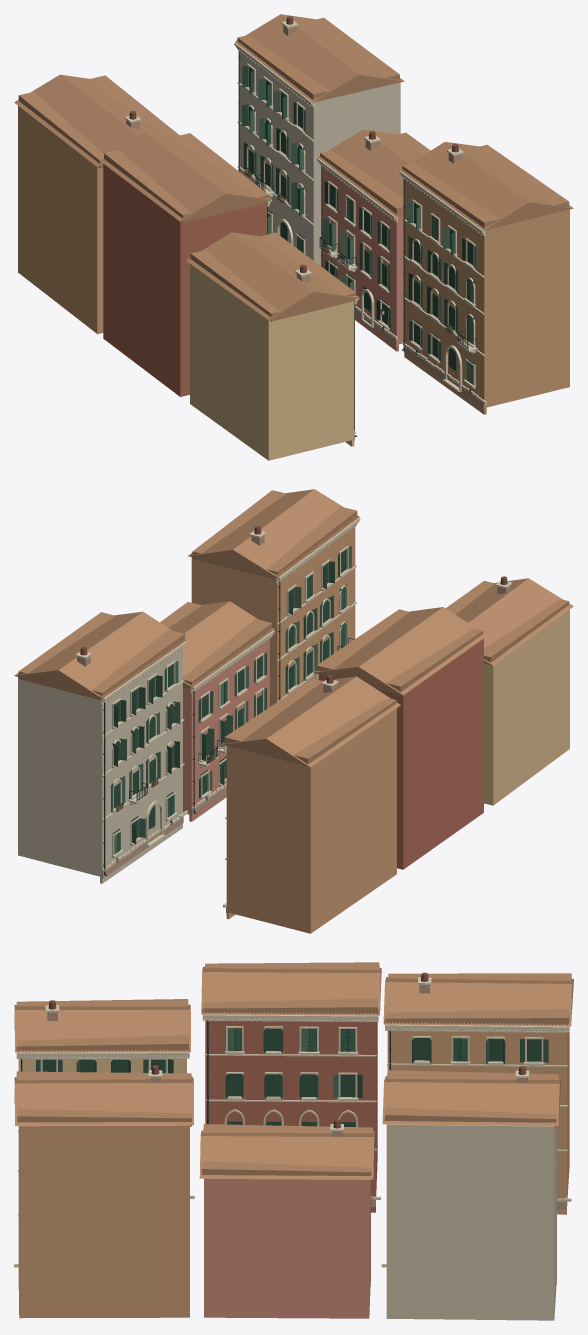
Rendered from canal-00.glb.
3 renders of one model, top to bottom at view 1: azimuth 30°, elevation 25°; view 2: azimuth 150°, elevation 25°; view 3: azimuth 270°, elevation 25°, orthographic. The views are drawn at different scales.
Visible parts, largest first — view 1: Main elevations / kit:roof, Main elevations / kit:walls:0, Distant elevations / kit:walls:0, Main elevations / kit:walls:2, Distant elevations / kit:roof, Main elevations / kit:walls:4, Main elevations / kit:stone, Distant elevations / kit:walls:3, Main elevations / kit:walls:3, Distant elevations / kit:walls:2, Main elevations / kit:green, Distant elevations / kit:greenDark (+8 smaller); view 2: Main elevations / kit:roof, Main elevations / kit:walls:0, Distant elevations / kit:walls:0, Main elevations / kit:walls:3, Main elevations / kit:walls:4, Distant elevations / kit:roof, Main elevations / kit:walls:2, Main elevations / kit:stone, Distant elevations / kit:walls:3, Main elevations / kit:green, Distant elevations / kit:greenDark, Distant elevations / kit:walls:1 (+6 smaller); view 3: Main elevations / kit:roof, Main elevations / kit:walls:0, Main elevations / kit:walls:3, Main elevations / kit:walls:1, Distant elevations / kit:roof, Main elevations / kit:stone, Main elevations / kit:walls:4, Distant elevations / kit:walls:4, Distant elevations / kit:greenDark, Main elevations / kit:greenDark, Distant elevations / kit:walls:0, Main elevations / kit:green (+3 smaller).
Part boxes in pixels (bbox=[...]): Main elevations / kit:roof: bbox=[14, 14, 573, 320]; Main elevations / kit:walls:0: bbox=[18, 106, 569, 414]; Distant elevations / kit:walls:0: bbox=[100, 168, 567, 407]; Main elevations / kit:walls:2: bbox=[190, 264, 354, 460]; Distant elevations / kit:roof: bbox=[18, 17, 569, 321]; Main elevations / kit:walls:4: bbox=[103, 164, 266, 396]; Main elevations / kit:stone: bbox=[124, 21, 486, 433]; Distant elevations / kit:walls:3: bbox=[239, 51, 316, 262]; Main elevations / kit:walls:3: bbox=[243, 82, 400, 265]; Distant elevations / kit:walls:2: bbox=[271, 302, 351, 459]; Main elevations / kit:green: bbox=[243, 78, 476, 384]; Distant elevations / kit:greenDark: bbox=[248, 67, 474, 371]; Main elevations / kit:roof: bbox=[14, 489, 573, 767]; Main elevations / kit:walls:0: bbox=[191, 526, 396, 933]; Distant elevations / kit:walls:0: bbox=[211, 542, 345, 932]; Main elevations / kit:walls:3: bbox=[18, 675, 182, 883]; Main elevations / kit:walls:4: bbox=[320, 638, 483, 869]; Distant elevations / kit:roof: bbox=[18, 490, 569, 764]; Main elevations / kit:walls:2: bbox=[484, 609, 569, 805]; Main elevations / kit:stone: bbox=[75, 518, 512, 907]; Distant elevations / kit:walls:3: bbox=[99, 649, 182, 876]; Main elevations / kit:green: bbox=[110, 546, 351, 854]; Distant elevations / kit:greenDark: bbox=[112, 549, 346, 838]; Distant elevations / kit:walls:1: bbox=[183, 638, 269, 814]; Main elevations / kit:roof: bbox=[14, 966, 573, 1179]; Main elevations / kit:walls:0: bbox=[19, 1031, 566, 1318]; Main elevations / kit:walls:3: bbox=[386, 1124, 556, 1320]; Main elevations / kit:walls:1: bbox=[204, 1178, 370, 1318]; Distant elevations / kit:roof: bbox=[16, 962, 571, 1180]; Main elevations / kit:stone: bbox=[14, 977, 571, 1267]; Main elevations / kit:walls:4: bbox=[216, 1021, 377, 1212]; Distant elevations / kit:walls:4: bbox=[205, 1020, 376, 1196]; Distant elevations / kit:greenDark: bbox=[42, 1028, 541, 1126]; Main elevations / kit:greenDark: bbox=[36, 1028, 524, 1099]; Distant elevations / kit:walls:0: bbox=[18, 1032, 569, 1314]; Main elevations / kit:green: bbox=[58, 1028, 548, 1099].
Size of the model in its own units: 29.21 by 19.43 by 42.17.
